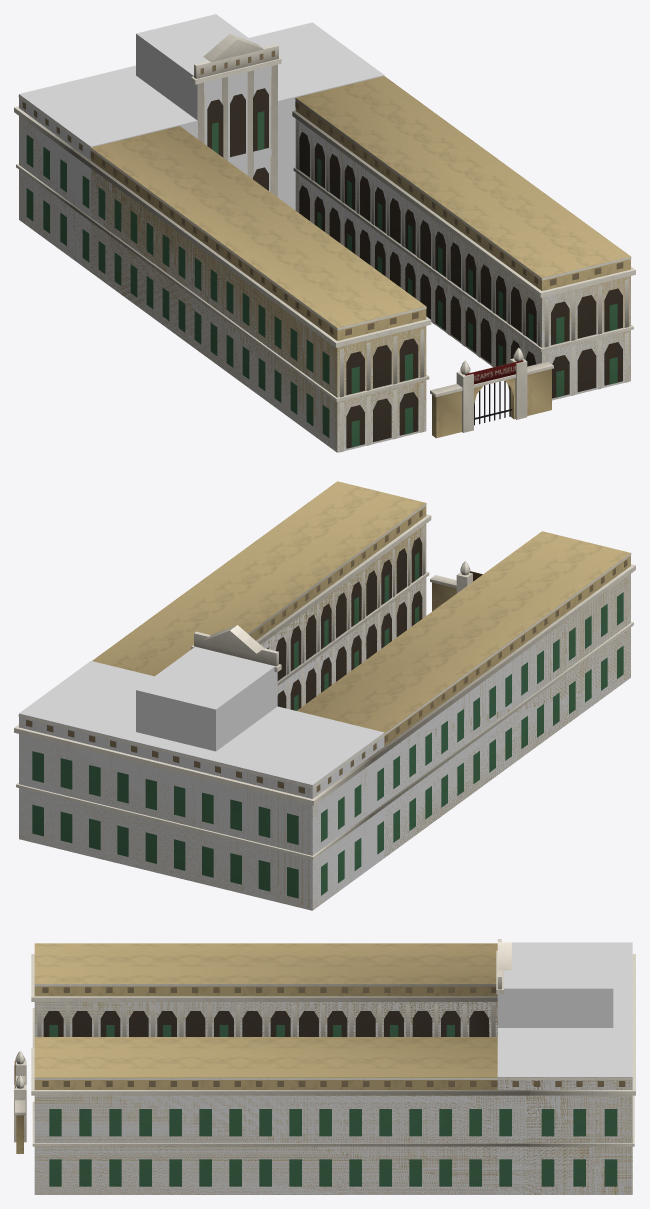
Rendered from purani_haveli.glb.
The picture shows the model from 3 angles, top to bottom: view 1: azimuth 30°, elevation 25°; view 2: azimuth 150°, elevation 25°; view 3: azimuth 270°, elevation 25°; orthographic projection. The views are drawn at different scales.
Parts seen in each view (by area): view 1: purani_haveli_body, COL_purani_haveli; view 2: purani_haveli_body, COL_purani_haveli; view 3: purani_haveli_body, COL_purani_haveli.
Part boxes in pixels (x1,y1,x2,y2): purani_haveli_body: [14, 33, 635, 452]; COL_purani_haveli: [19, 14, 630, 452]; purani_haveli_body: [14, 481, 635, 910]; COL_purani_haveli: [19, 524, 630, 910]; purani_haveli_body: [14, 939, 635, 1194]; COL_purani_haveli: [34, 942, 632, 1194].
Bounding box in the file's own units: 67.4 × 42.4 × 129.
8 materials, 8 textured.
